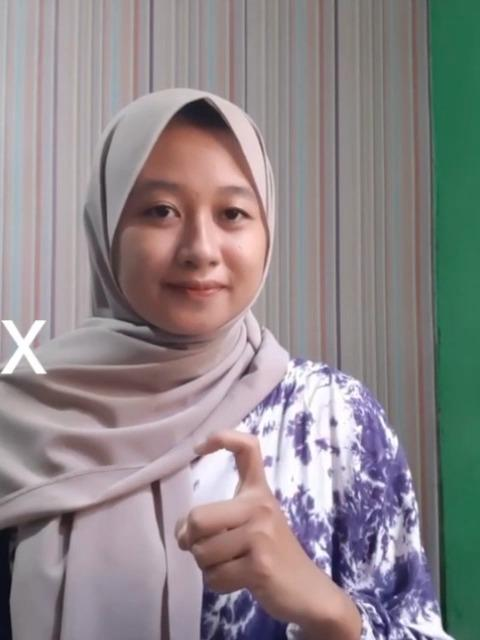X: (174, 424, 336, 640)
